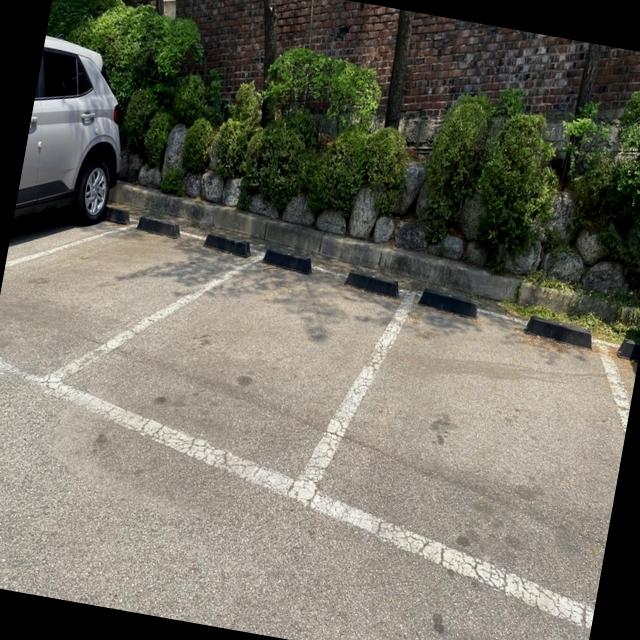free: (287, 287, 630, 634), (24, 244, 421, 505)
